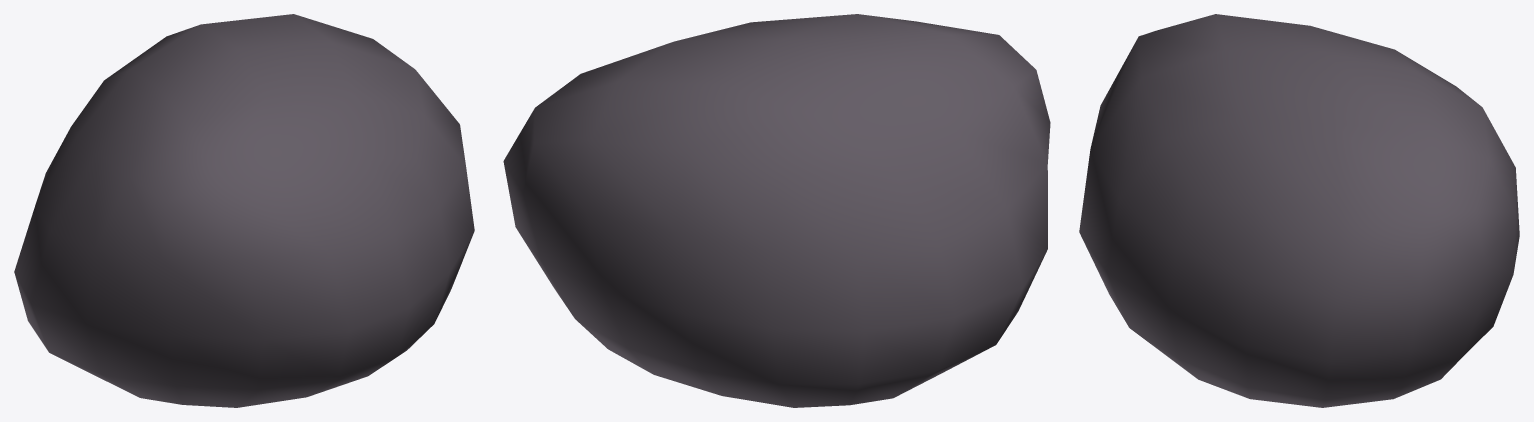
File: MoonStone_1.fbx
The picture shows the model from 3 angles, left to right: view 1: azimuth 30°, elevation 25°; view 2: azimuth 150°, elevation 25°; view 3: azimuth 270°, elevation 25°; orthographic projection. The views are drawn at different scales.
Visible parts, largest first — view 1: Stone_1; view 2: Stone_1; view 3: Stone_1.
Part boxes in pixels (x1,y1,x2,y2): Stone_1: (14, 14, 474, 407); Stone_1: (503, 14, 1050, 407); Stone_1: (1079, 14, 1519, 407).
Size of the model in its own units: 1.83 by 1.19 by 1.59.
